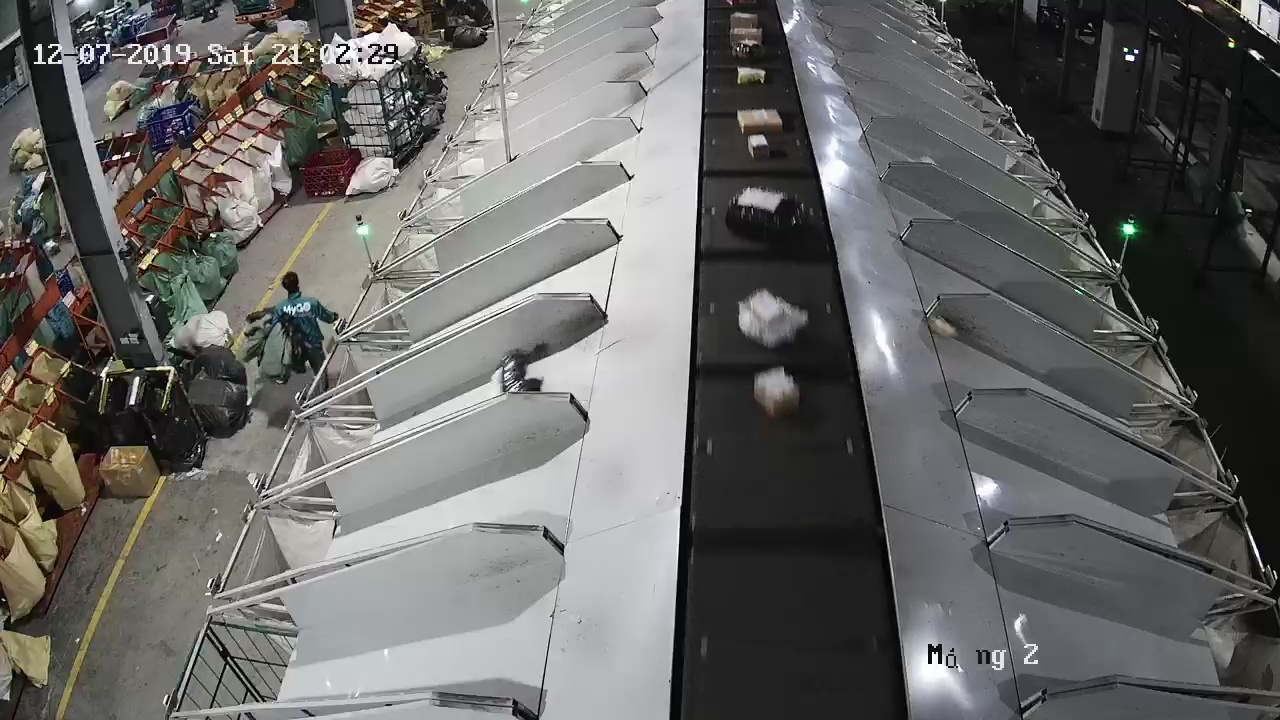parcel: (925, 314, 959, 340)
